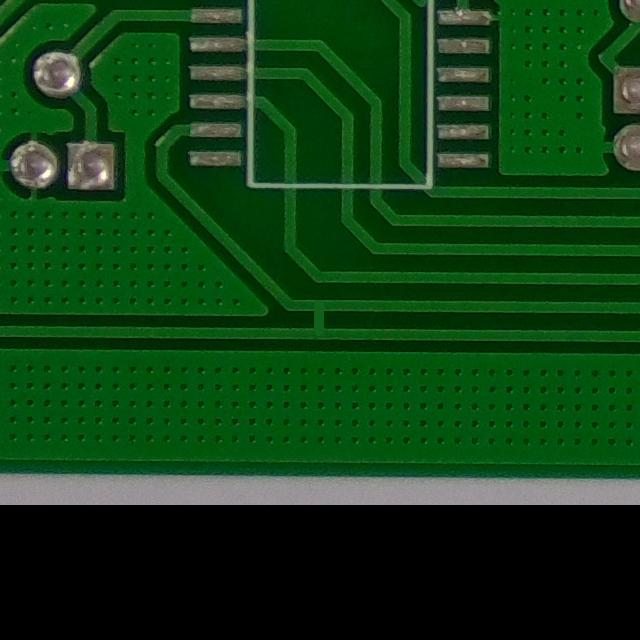short: (293, 289, 348, 352)
